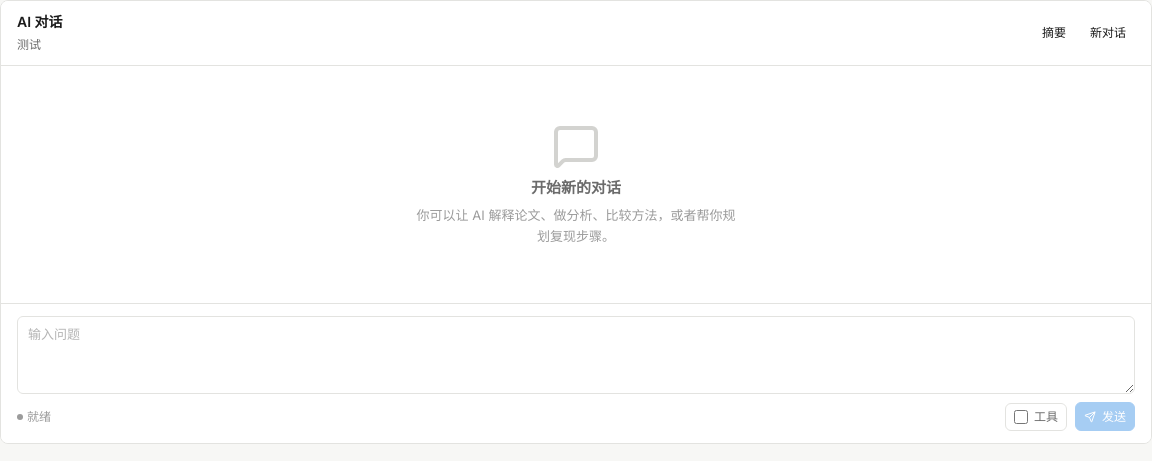
Test: ChatPanel › renders tool toggle and submits tools_enabled=true when enabled
Click the checkbox labelled "工具" at (1021, 417), box [1014, 410, 1028, 424]
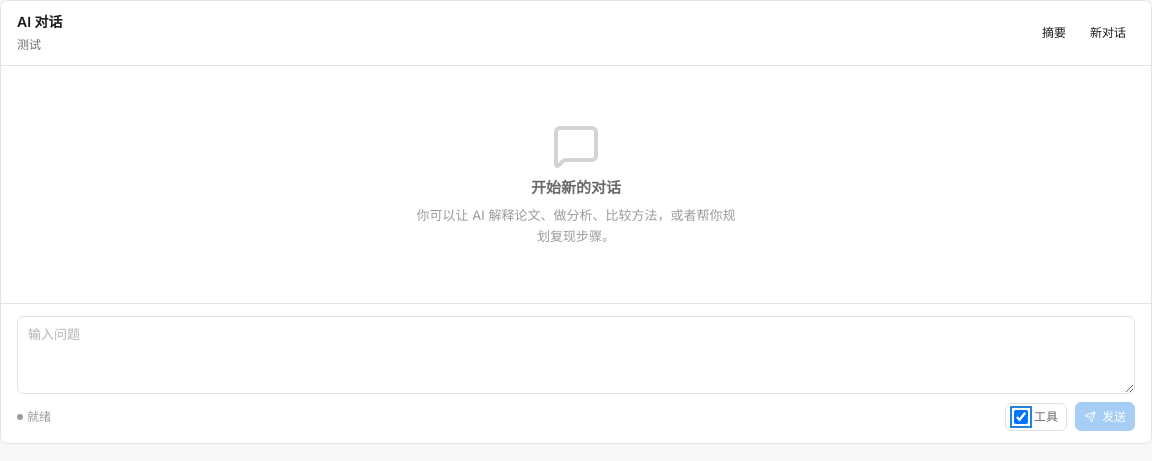
Type "你好" into the text box with placeholder "输入问题" at (576, 355), box [17, 316, 1135, 394]
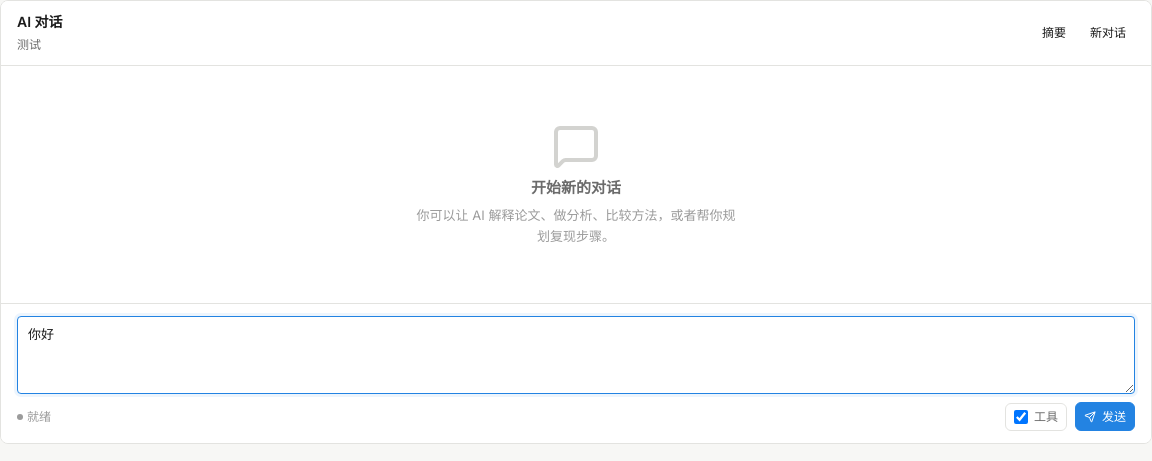
Click the button "发送" at (1105, 417), box [1075, 402, 1135, 431]
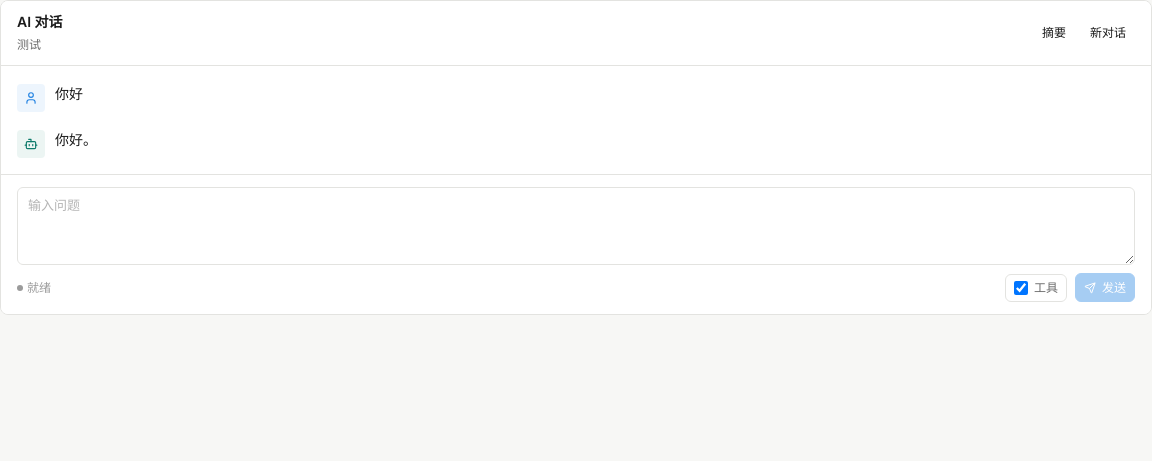
Expected: the text "你好。" is shown, [55, 131, 97, 148]
